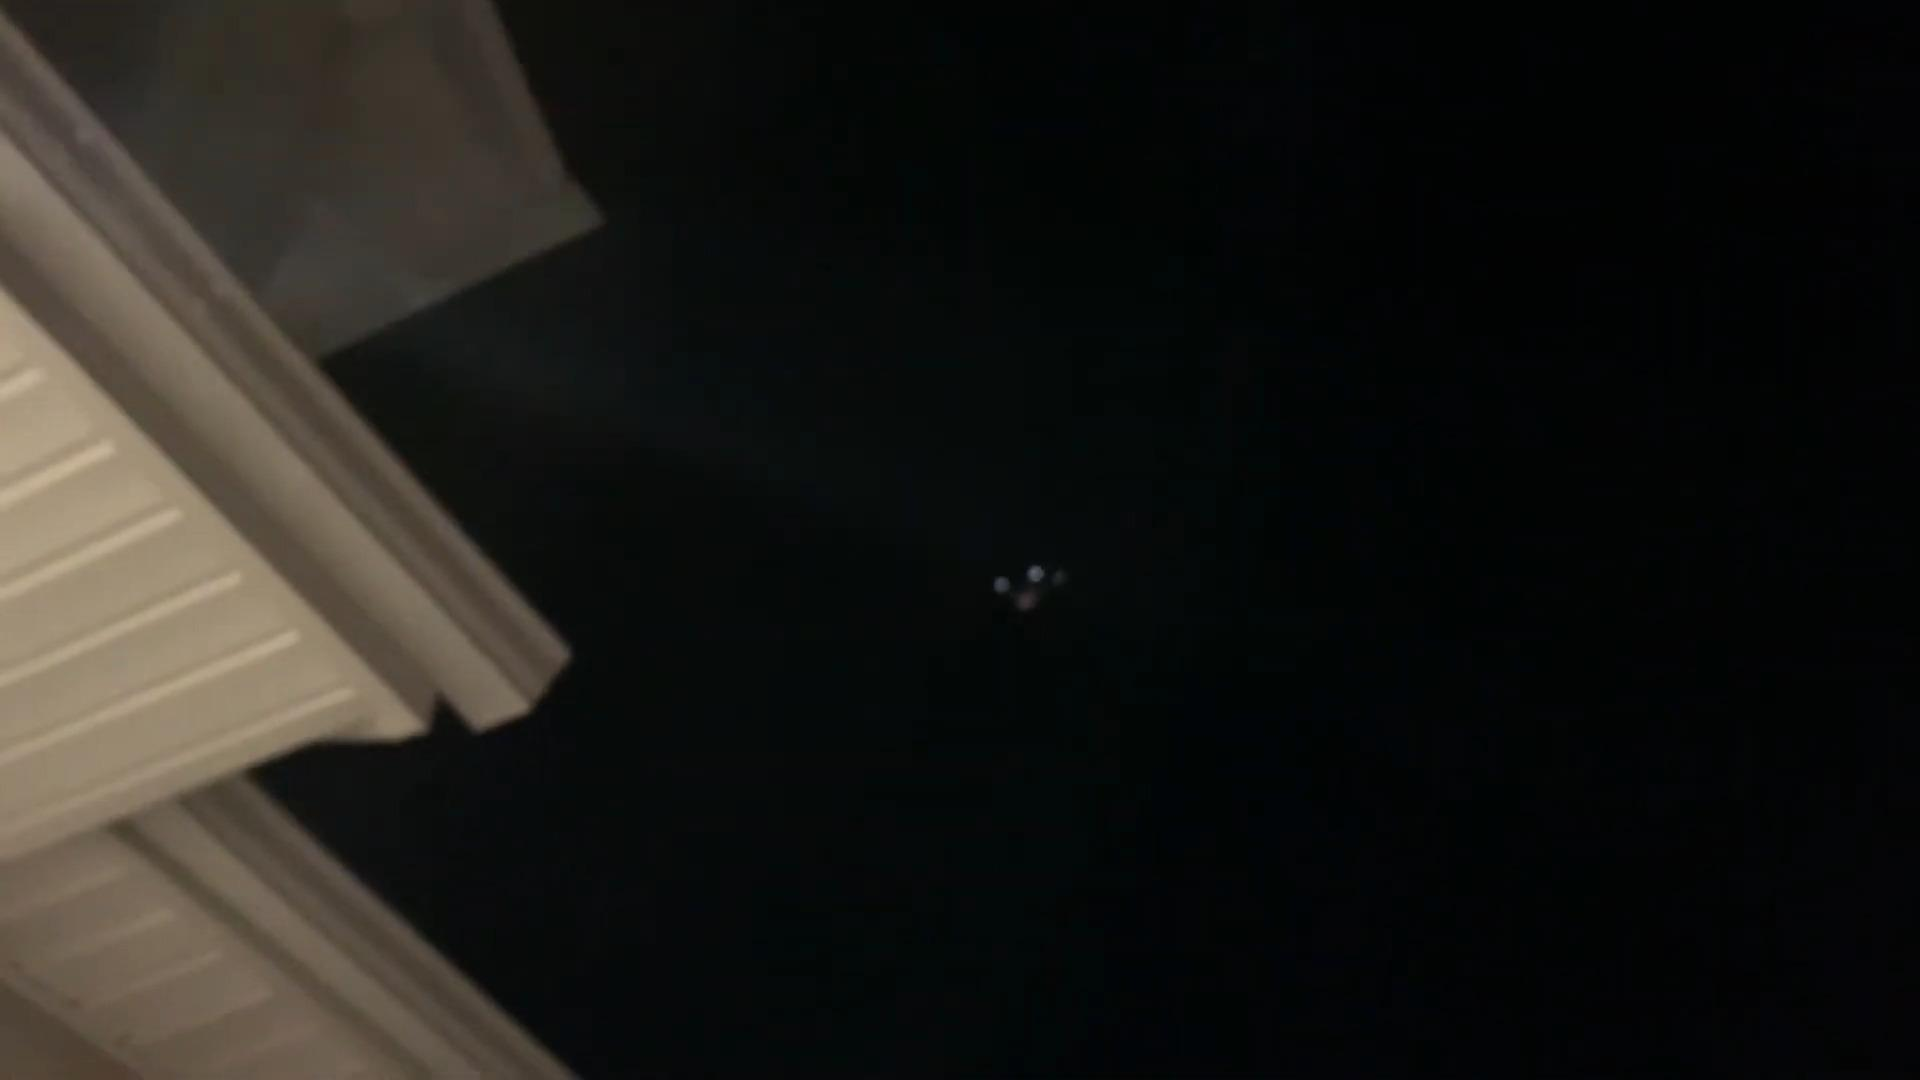Plane: (953, 549, 1113, 630)
